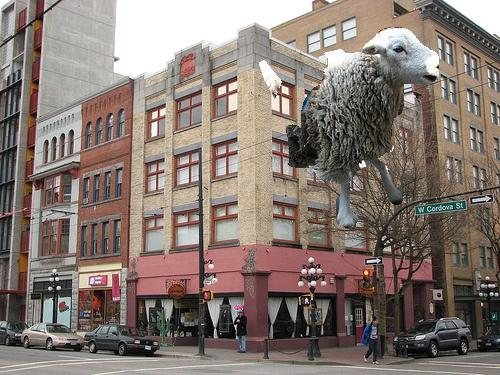tampered: (260, 28, 439, 228)
